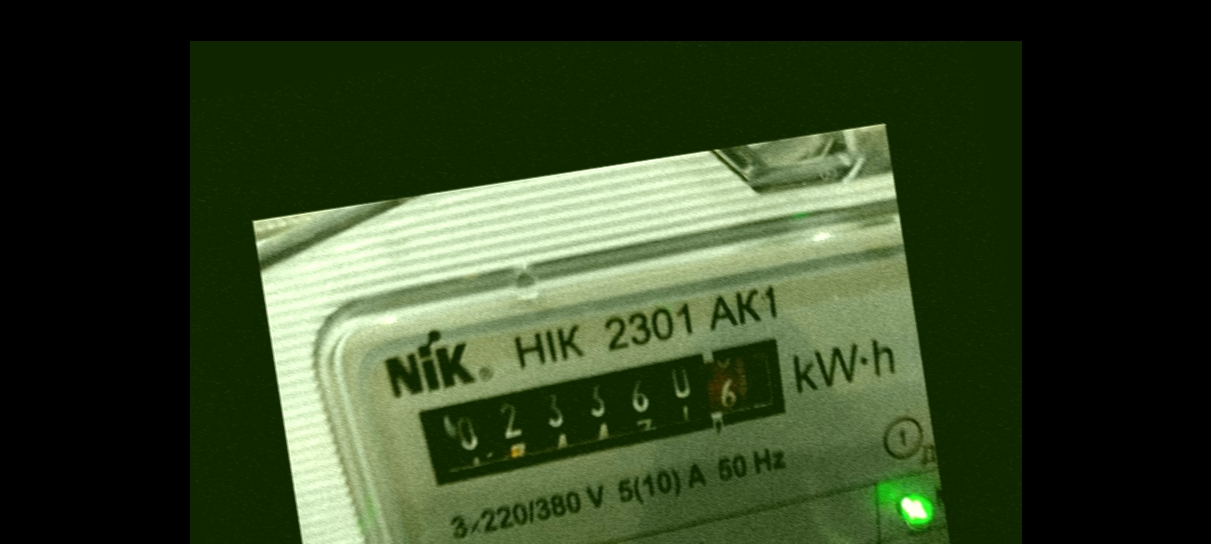0: (452, 410, 483, 456), (667, 362, 696, 402)
2: (495, 397, 527, 441)
3: (541, 389, 568, 432), (582, 381, 610, 421)
6: (624, 374, 656, 418), (717, 374, 743, 413)
screen: (393, 323, 807, 500)
